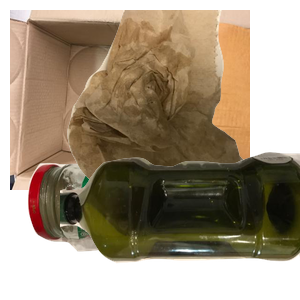cardboard: (10, 10, 250, 190)
glass: (25, 155, 227, 300)
plastic: (60, 149, 300, 300)
trash: (65, 10, 300, 190)
